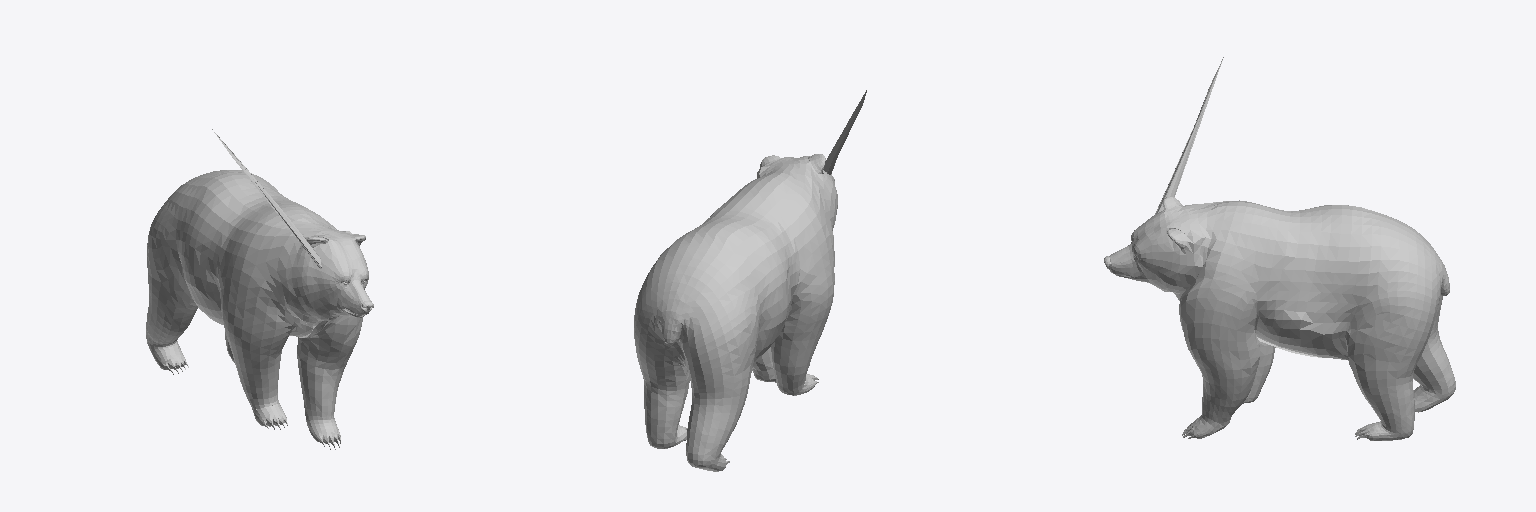
Rendered from Bear0109.obj.
3 renders of one model, left to right at view 1: azimuth 30°, elevation 25°; view 2: azimuth 150°, elevation 25°; view 3: azimuth 270°, elevation 25°, orthographic.
Visible parts, largest first — view 1: Object_237; view 2: Object_237; view 3: Object_237.
Part boxes in pixels (x1,y1,x2,y2): Object_237: (146, 129, 373, 449); Object_237: (634, 90, 866, 471); Object_237: (1104, 57, 1455, 440).
Size of the model in its own units: 2.33 by 5.1 by 4.92.